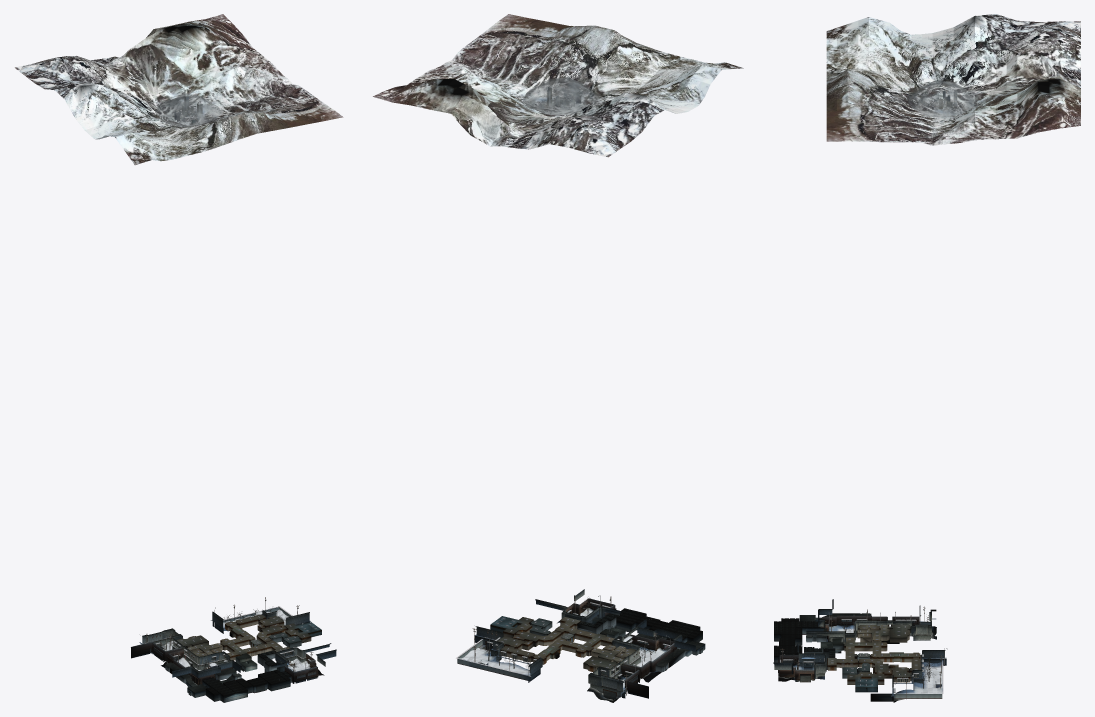
File: cs_office.tex.glb
3 views of the same model, side by side, from view 1: azimuth 30°, elevation 25°; view 2: azimuth 150°, elevation 25°; view 3: azimuth 270°, elevation 25° (orthographic). The views are drawn at different scales.
Parts seen in each view (by area): view 1: surf_283, surf_145, prop_180, surf_150, surf_189, prop_179, surf_116, surf_191; view 2: surf_283, surf_145, prop_180, surf_150, prop_179, surf_189, surf_277, surf_116; view 3: surf_283, surf_145, prop_180, surf_189, surf_150, prop_179, surf_116, surf_277.
Boxes of the visible parts, x1,y1,x2,y2 form: surf_283: (15,14,343,165); surf_145: (176,614,321,656); prop_180: (155,93,222,127); surf_150: (131,641,318,684); surf_189: (202,650,290,695); prop_179: (156,95,219,126); surf_116: (142,610,336,672); surf_191: (202,651,291,696); surf_283: (373,14,743,157); surf_145: (490,616,635,668); prop_180: (523,77,600,115); surf_150: (566,598,676,697); prop_179: (524,79,598,114); surf_189: (579,608,702,641); surf_277: (460,636,663,695); surf_116: (475,599,695,692); surf_283: (826,14,1080,145); surf_145: (828,625,920,687); prop_180: (907,80,975,116); surf_189: (774,618,835,656); surf_150: (778,605,920,680); prop_179: (909,82,975,117); surf_116: (773,599,946,687); surf_277: (801,625,941,702).
Size of the model in its own units: 143 by 370 by 173.
Materials: 396 (394 with a texture image).
